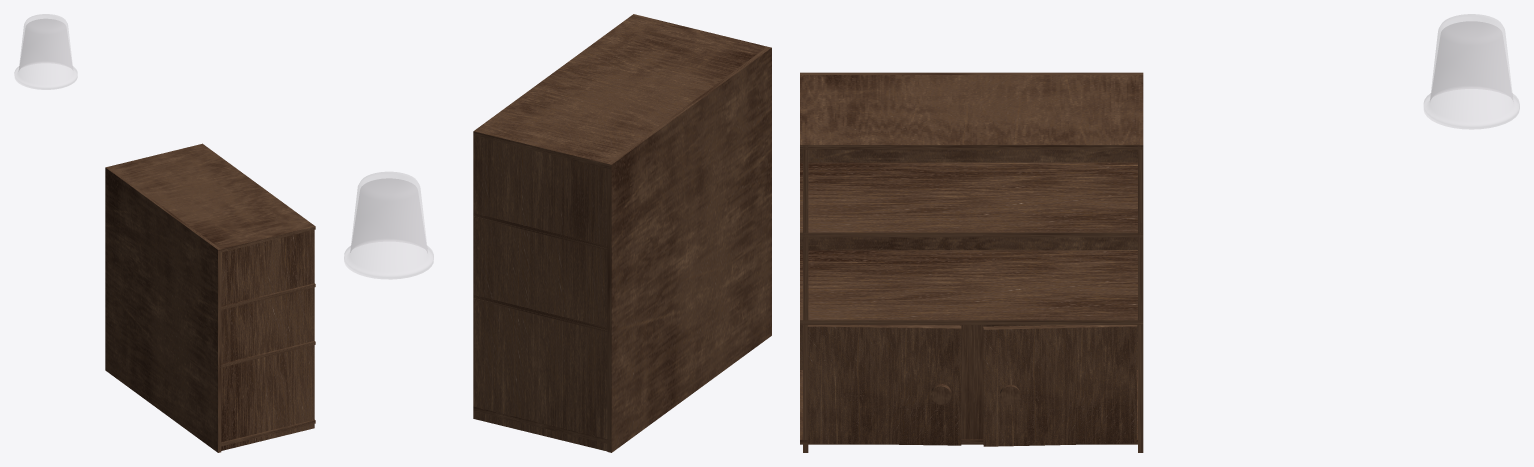
The model's file is tugo.fbx.
3 renders of one model, left to right at view 1: azimuth 30°, elevation 25°; view 2: azimuth 150°, elevation 25°; view 3: azimuth 270°, elevation 25°, orthographic. The views are drawn at different scales.
Parts seen in each view (by area): view 1: Cube.009, Xo; view 2: Cube.009, Xo; view 3: Cube.009, Xo.
Boxes of the visible parts, x1=… form: Cube.009: x1=105, y1=143, x2=315, y2=452; Xo: x1=14, y1=14, x2=77, y2=89; Cube.009: x1=473, y1=14, x2=771, y2=452; Xo: x1=344, y1=172, x2=433, y2=279; Cube.009: x1=800, y1=72, x2=1143, y2=452; Xo: x1=1424, y1=14, x2=1519, y2=129.
Size of the model in its own units: 215 by 508 by 845.
